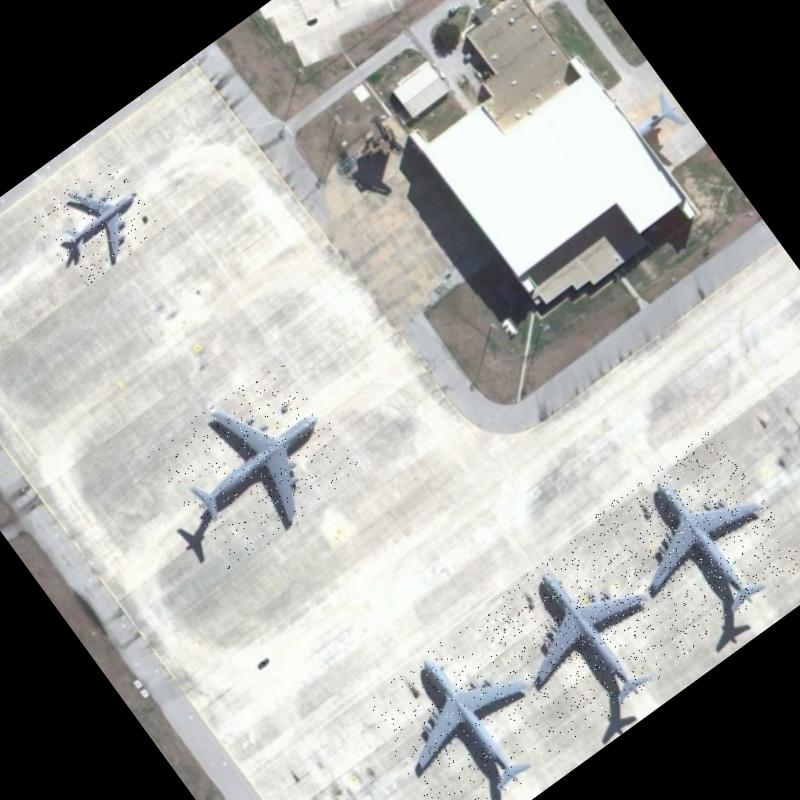A14: (29, 156, 165, 288)
A4: (142, 353, 366, 572), (478, 520, 696, 740), (592, 428, 800, 650), (356, 612, 575, 800)
